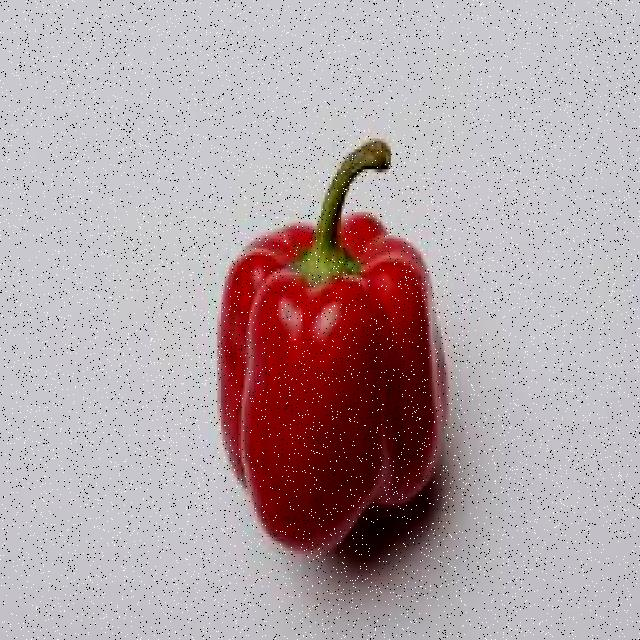Bell Pepper: (172, 119, 508, 603)
